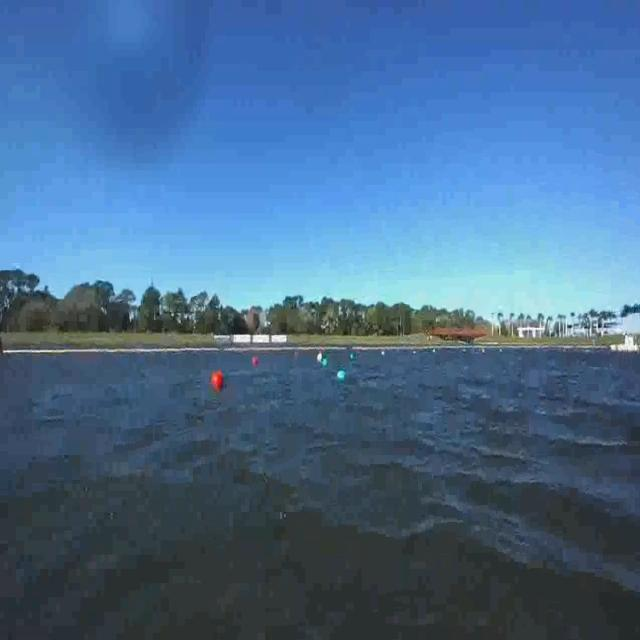green-buoy: (339, 367, 347, 381), (322, 358, 328, 368)
red-buoy: (250, 353, 263, 370), (212, 370, 224, 388)
